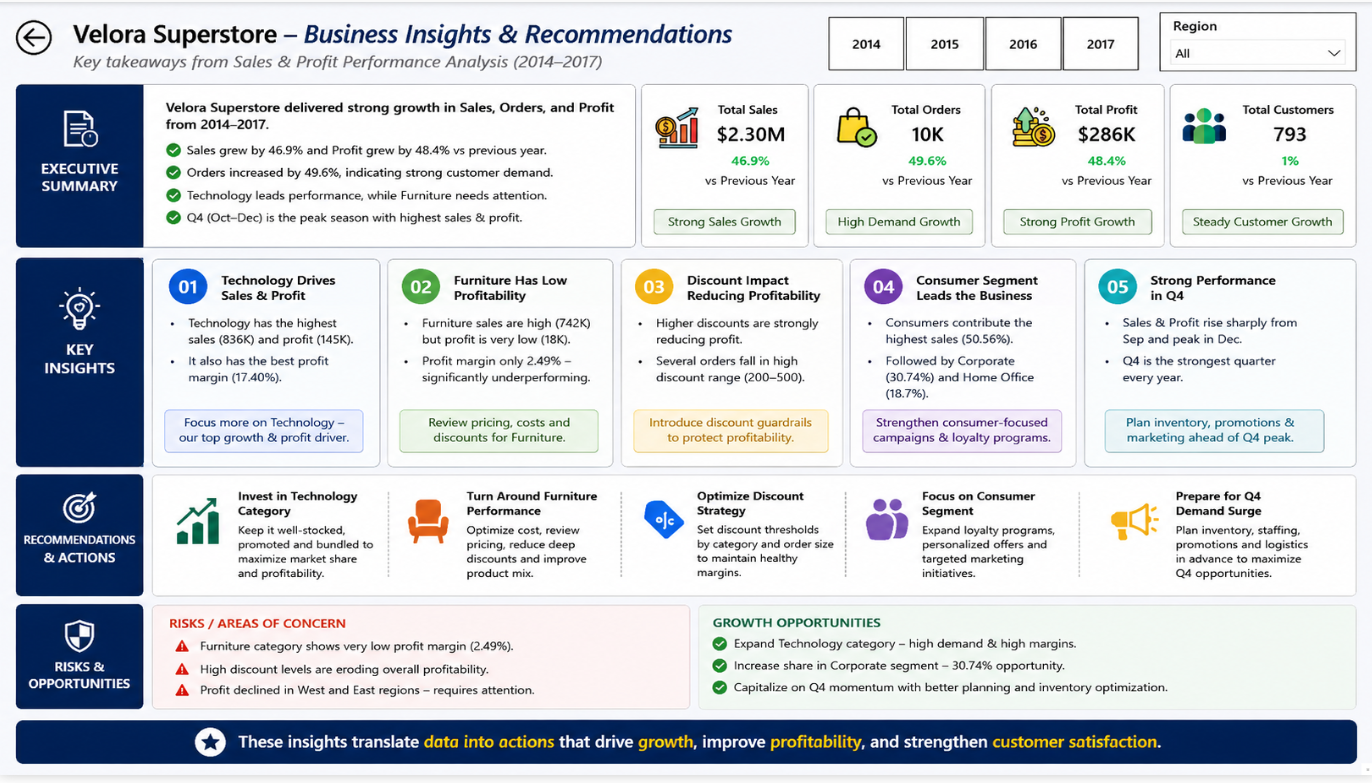

What the dashboard file says about the page in this screenshot:
{"tool":"powerbi","page":{"name":"Insights","canvas":[1280,720],"ordinal":2},"visuals":[{"type":"textbox","box":[1268,708.2,12.1,12.1],"z":0}]}

Visuals, with their boxes in screenshot pixels (x1, y1, x2, y2), scaled from the page's 1280x720 canvas onto the 1372x783 screenshot:
textbox: left=1359, top=770, right=1371, bottom=782
